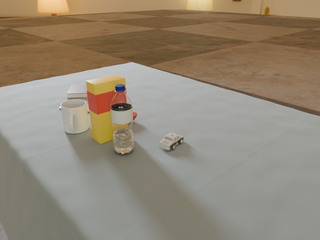book: (67, 85, 88, 98)
bottle: (110, 84, 134, 154)
box: (86, 75, 126, 144)
cup: (61, 100, 89, 134)
toy_car: (159, 133, 184, 150)
